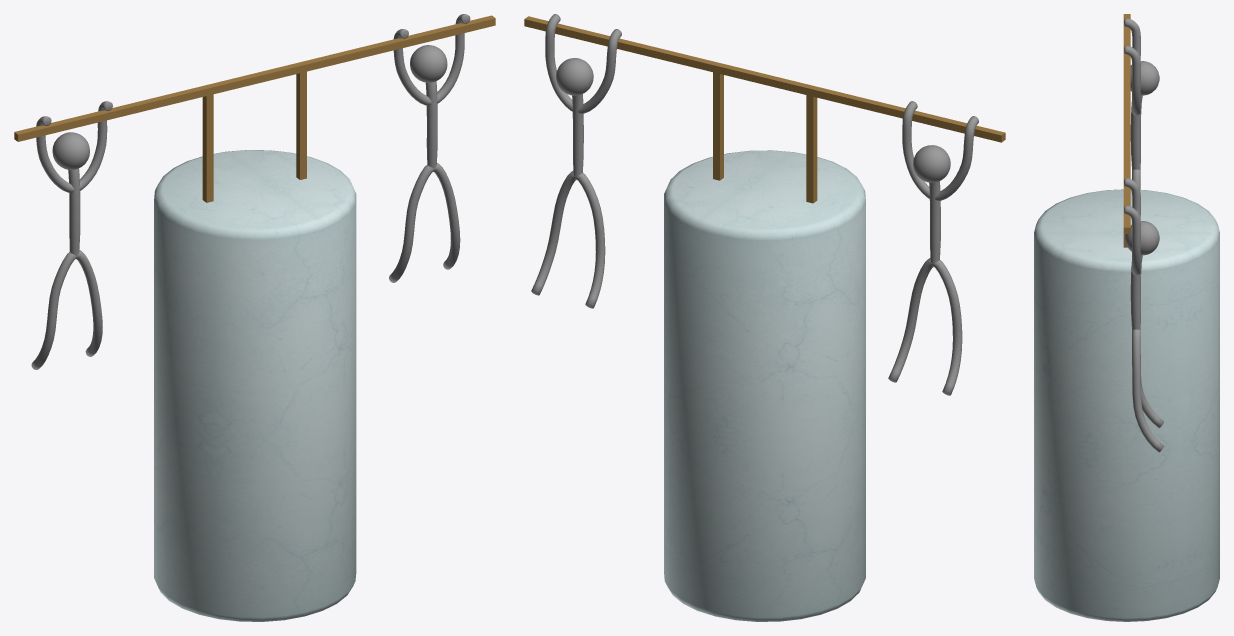
File: Decor_02.FBX
3 renders of one model, left to right at view 1: azimuth 30°, elevation 25°; view 2: azimuth 150°, elevation 25°; view 3: azimuth 270°, elevation 25°, orthographic. The views are drawn at different scales.
Visible parts, largest first — view 1: Decor_02; view 2: Decor_02; view 3: Decor_02.
Part boxes in pixels (box(x1,y1,x2,y2)): Decor_02: box(14, 14, 495, 621); Decor_02: box(524, 14, 1005, 621); Decor_02: box(1034, 14, 1219, 621).
Bounding box in the file's own units: 46.17 × 47.78 × 16.99.
